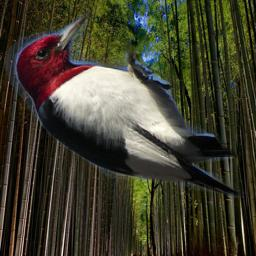Woodpecker: (3, 7, 256, 199)
